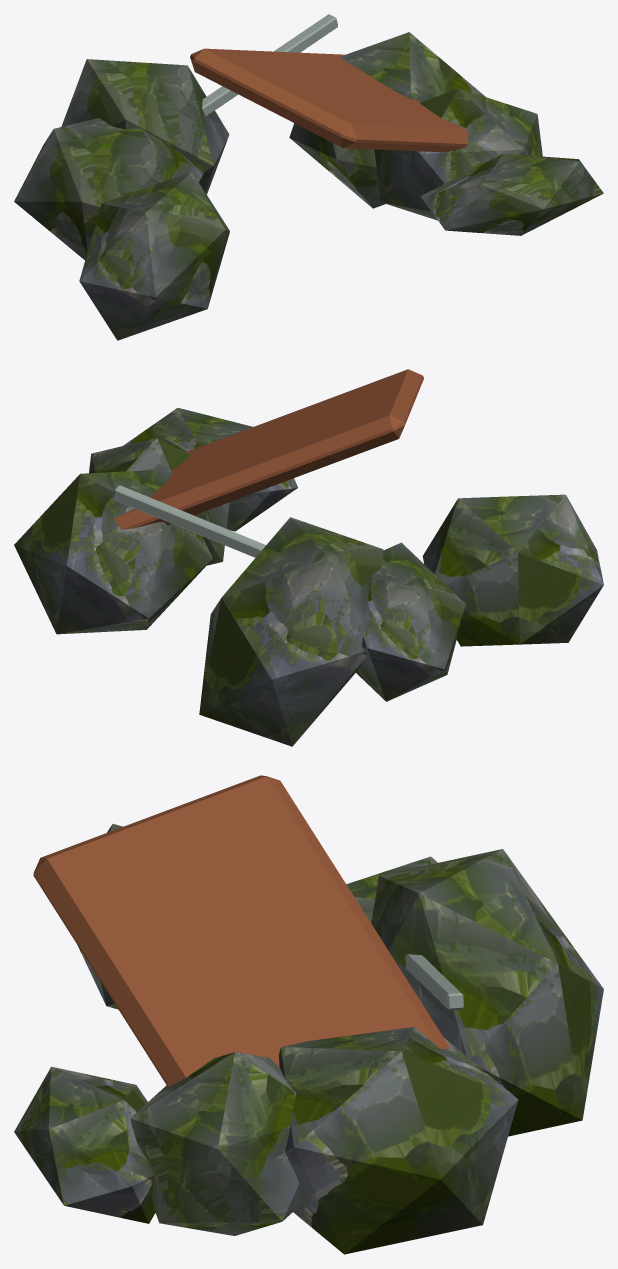
The model's file is Rubble_Cluster_1.glb.
The picture shows the model from 3 angles, top to bottom: view 1: azimuth 30°, elevation 25°; view 2: azimuth 150°, elevation 25°; view 3: azimuth 270°, elevation 25°; orthographic projection. The views are drawn at different scales.
Parts seen in each view (by area): view 1: Rubble_Cluster_1; view 2: Rubble_Cluster_1; view 3: Rubble_Cluster_1.
Part boxes in pixels (bbox=[...]): Rubble_Cluster_1: bbox=[14, 14, 603, 340]; Rubble_Cluster_1: bbox=[14, 369, 603, 746]; Rubble_Cluster_1: bbox=[14, 775, 603, 1254].
Size of the model in its own units: 1.78 by 0.8636 by 1.39.
3 materials, 1 textured.
